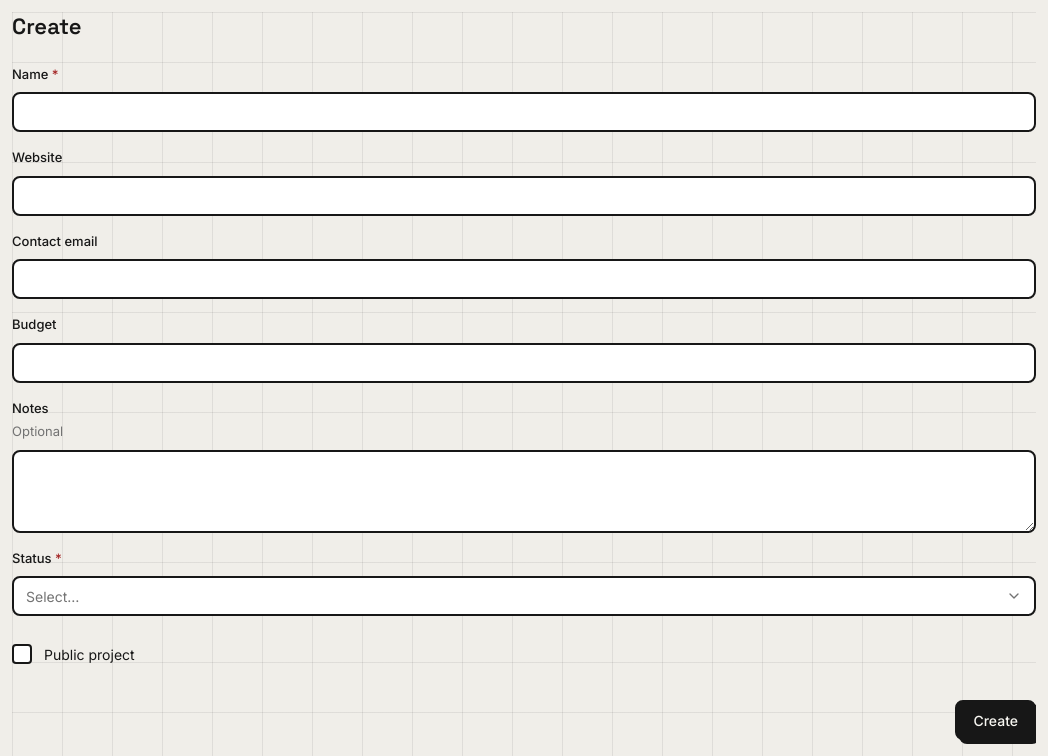
Scenario: CreateEditForm › reports missing required fields, focuses the first, and does not submit
Click the button "Create" at (996, 720), box [955,700,1036,740]
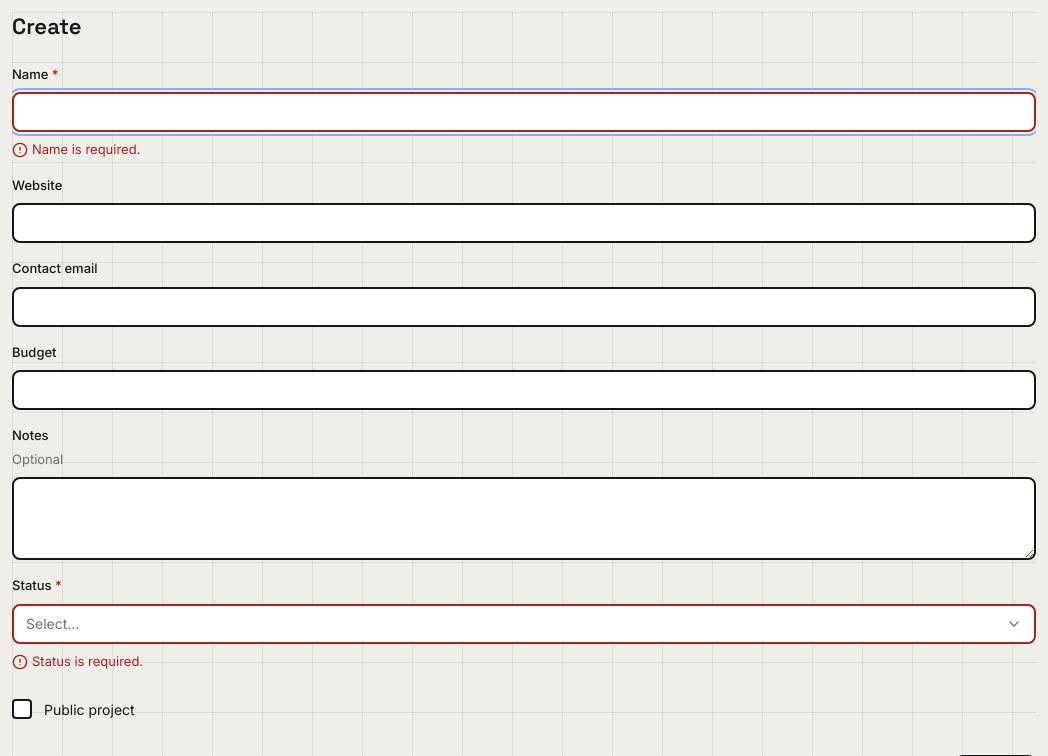
Now the text "Name is required." is shown, box [32,140,140,160]
Now the text "Status is required." is shown, box [32,652,143,671]
